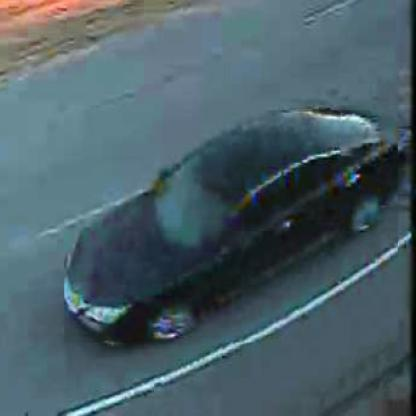car: (64, 111, 399, 345)
